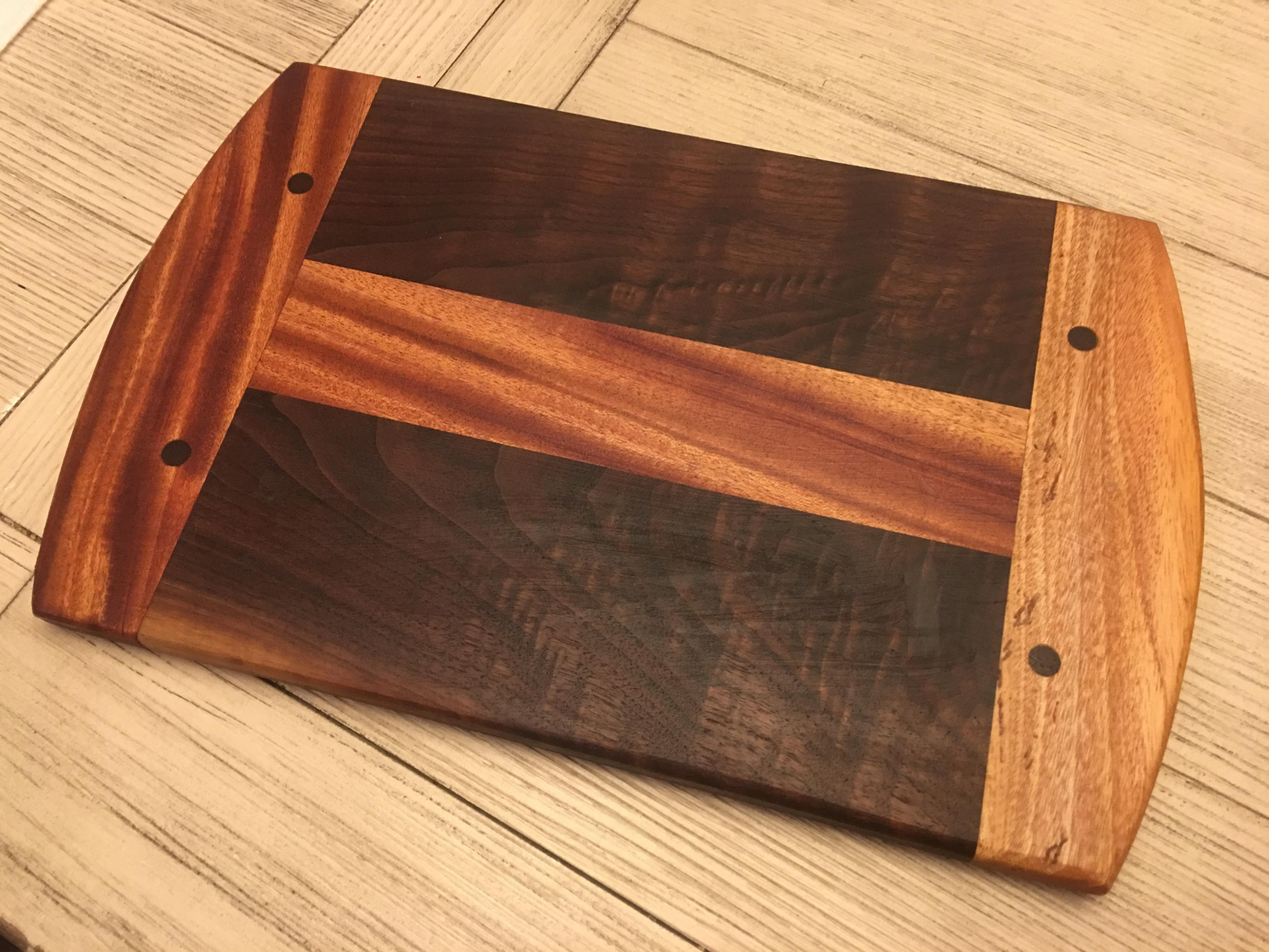gloved_hand: (57, 23, 897, 952)
